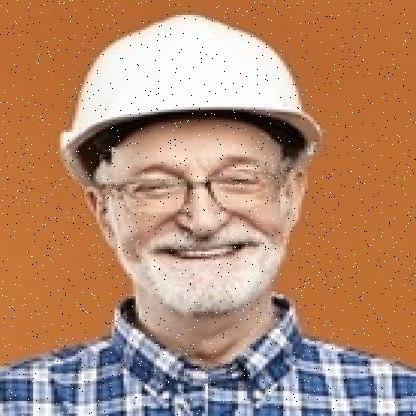capacete: (58, 14, 322, 151)
oculos: (95, 160, 290, 216)
